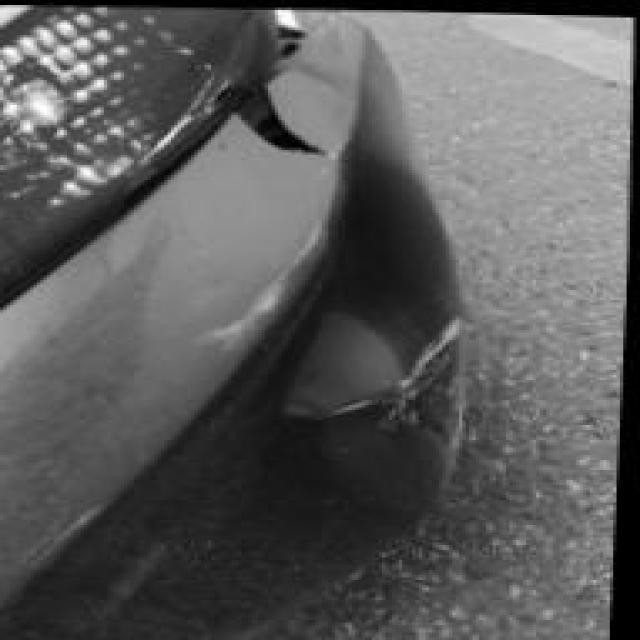Bumper: (0, 14, 471, 521)
